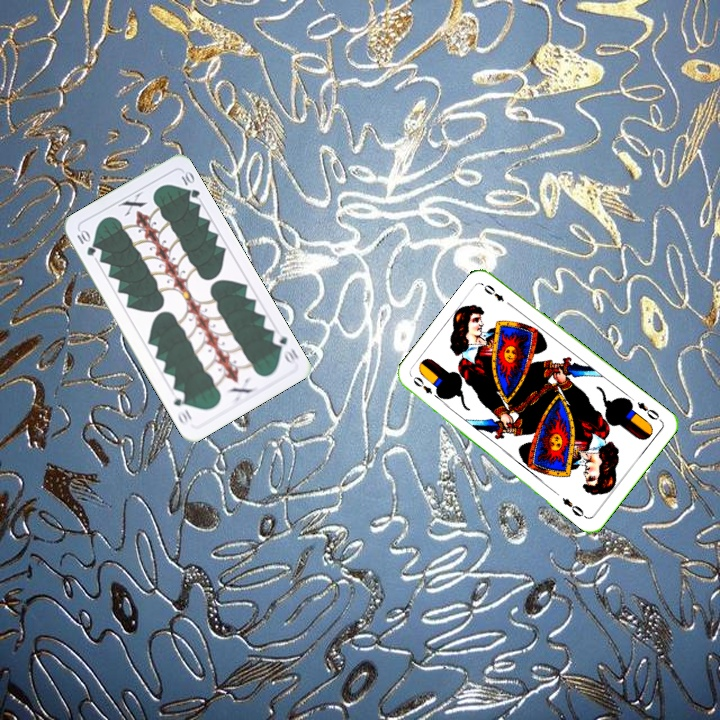EO: (633, 398, 664, 424), (409, 372, 435, 396)
G10: (268, 328, 301, 367), (73, 226, 98, 259)
